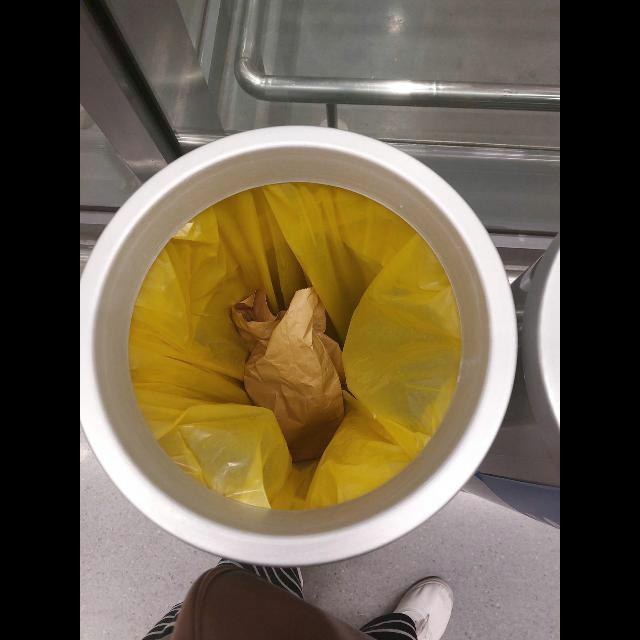paper: (230, 288, 348, 464)
